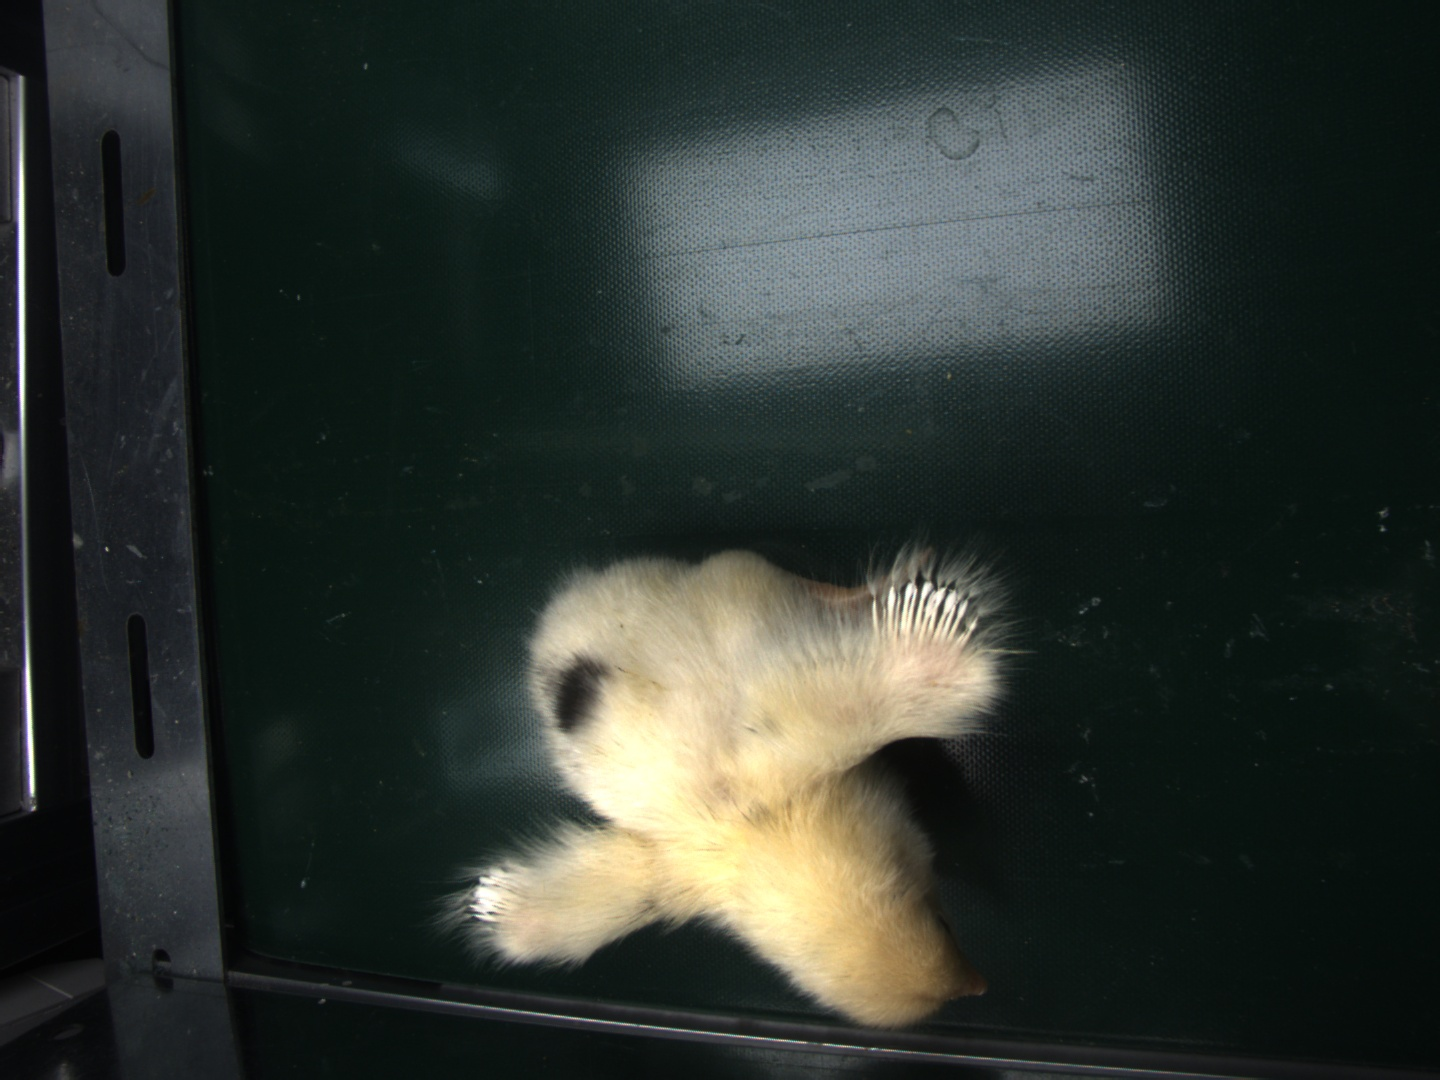male: (869, 579, 977, 643)
